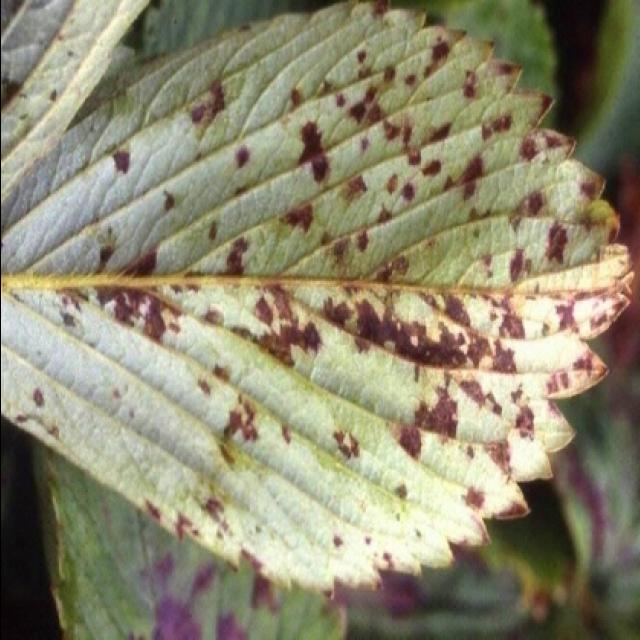Angular Leafspot: (2, 2, 636, 601)
